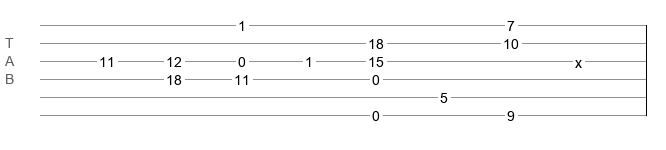0: (238, 54, 246, 64), (372, 72, 380, 82), (372, 108, 380, 118)
1: (238, 18, 246, 28), (305, 54, 313, 64)
10: (503, 36, 519, 46)
11: (99, 54, 115, 64), (234, 72, 250, 82)
12: (166, 54, 182, 64)
15: (368, 54, 384, 64)
18: (166, 72, 182, 82), (368, 36, 384, 46)
5: (440, 90, 448, 100)
7: (507, 18, 515, 28)
9: (507, 108, 515, 118)
x: (575, 55, 582, 63)
